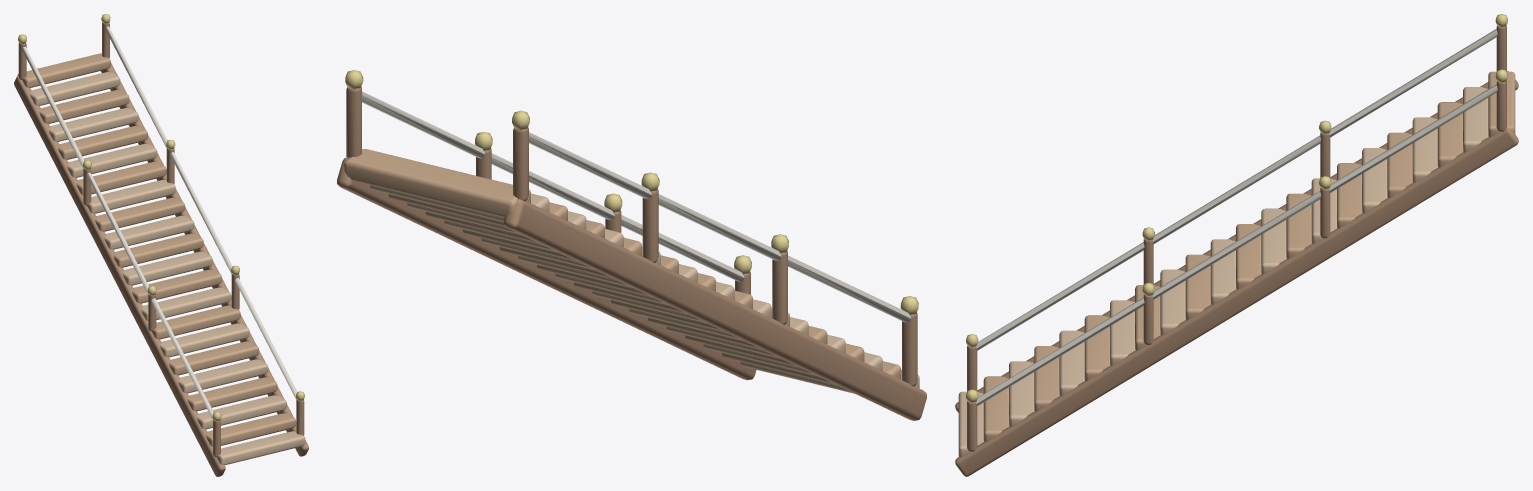
Rendered from stairs.glb.
The picture shows the model from 3 angles, left to right: view 1: azimuth 30°, elevation 25°; view 2: azimuth 150°, elevation 25°; view 3: azimuth 270°, elevation 25°; orthographic projection. The views are drawn at different scales.
Visible parts, largest first — view 1: Body; view 2: Body; view 3: Body.
Boxes of the visible parts, bbox=[...] form: Body: bbox=[14, 14, 308, 476]; Body: bbox=[337, 70, 926, 420]; Body: bbox=[955, 14, 1518, 476].
Bounding box in the file's own units: 8.64 × 26.66 × 33.52.
